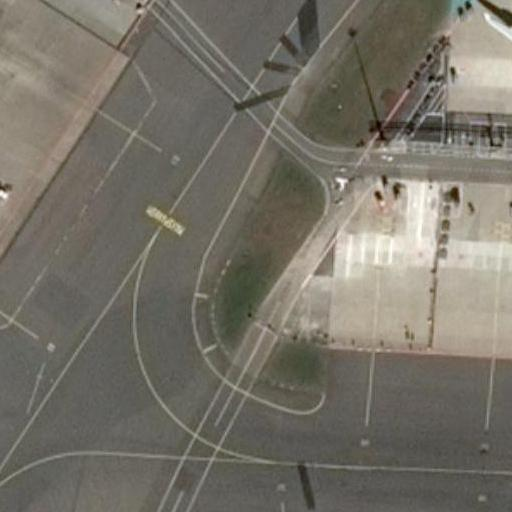Aircraft: (478, 0, 512, 126)
